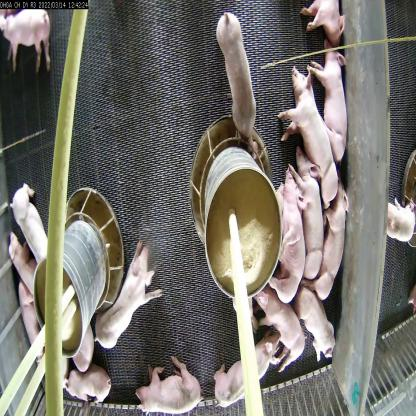Pig: (275, 53, 343, 208), (87, 247, 161, 351), (292, 129, 336, 284), (268, 173, 314, 316), (210, 9, 259, 141), (310, 27, 354, 171), (316, 187, 362, 316), (216, 327, 276, 410), (7, 271, 52, 379), (257, 284, 311, 371), (295, 281, 338, 369), (53, 351, 121, 406), (136, 365, 209, 415), (12, 189, 46, 277), (6, 6, 57, 64), (301, 0, 351, 53), (5, 238, 42, 294)
